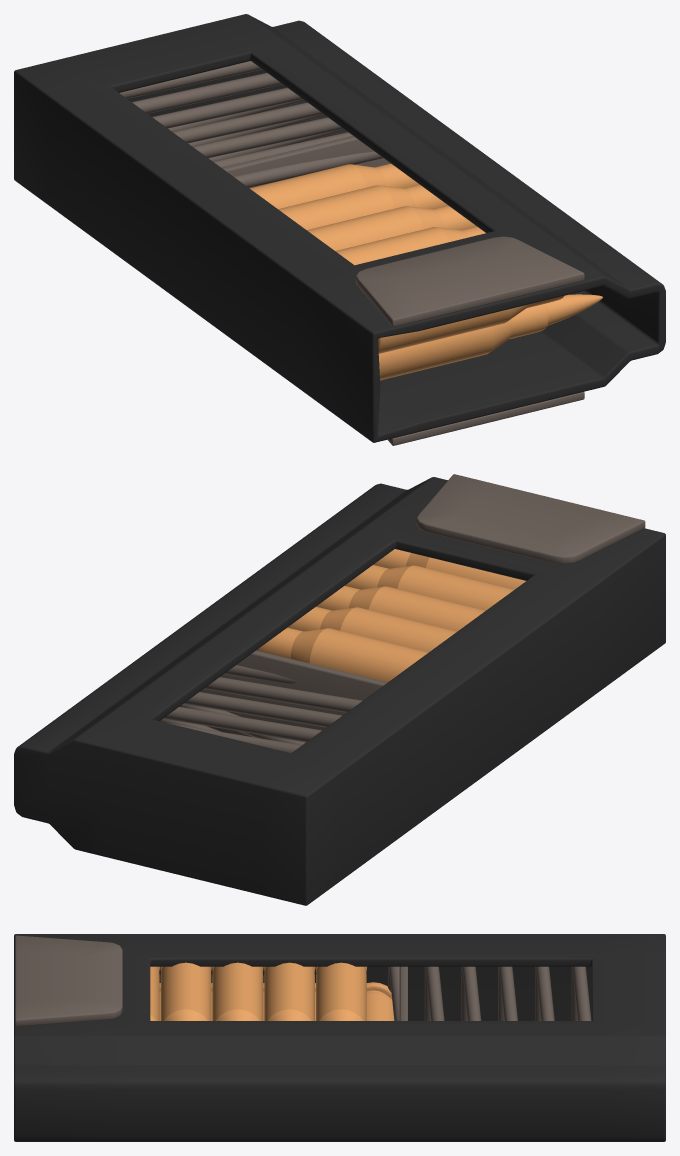
File: magazine_01.fbx
3 views of the same model, one above another, from view 1: azimuth 30°, elevation 25°; view 2: azimuth 150°, elevation 25°; view 3: azimuth 270°, elevation 25° (orthographic). The views are drawn at different scales.
Visible parts, largest first — view 1: Cube.083, Circle.144, NurbsPath.001, Cube.084, Cube.085; view 2: Cube.083, Circle.144, Cube.084, NurbsPath.001, Cube.085; view 3: Cube.083, Circle.144, Cube.084, NurbsPath.001, Cube.085.
Part boxes in pixels (x1,y1,x2,y2): Cube.083: (14, 14, 665, 442); Circle.144: (250, 163, 602, 380); NurbsPath.001: (119, 61, 382, 187); Cube.084: (355, 236, 584, 445); Cube.085: (222, 136, 390, 188); Cube.083: (14, 477, 665, 905); Circle.144: (256, 549, 525, 682); Cube.084: (416, 474, 645, 564); NurbsPath.001: (159, 665, 362, 753); Cube.085: (200, 650, 387, 736); Cube.083: (14, 934, 665, 1141); Circle.144: (150, 962, 394, 1020); Cube.084: (15, 935, 122, 1026); NurbsPath.001: (388, 966, 591, 1020); Cube.085: (399, 966, 407, 1020).
Bounding box in the file's own units: 22.02 × 9.13 × 46.74.
